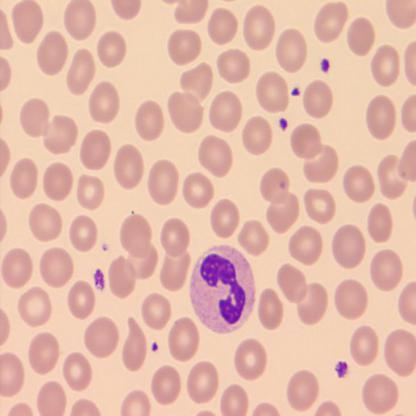Segmented neutrophil: (188, 244, 258, 336)
